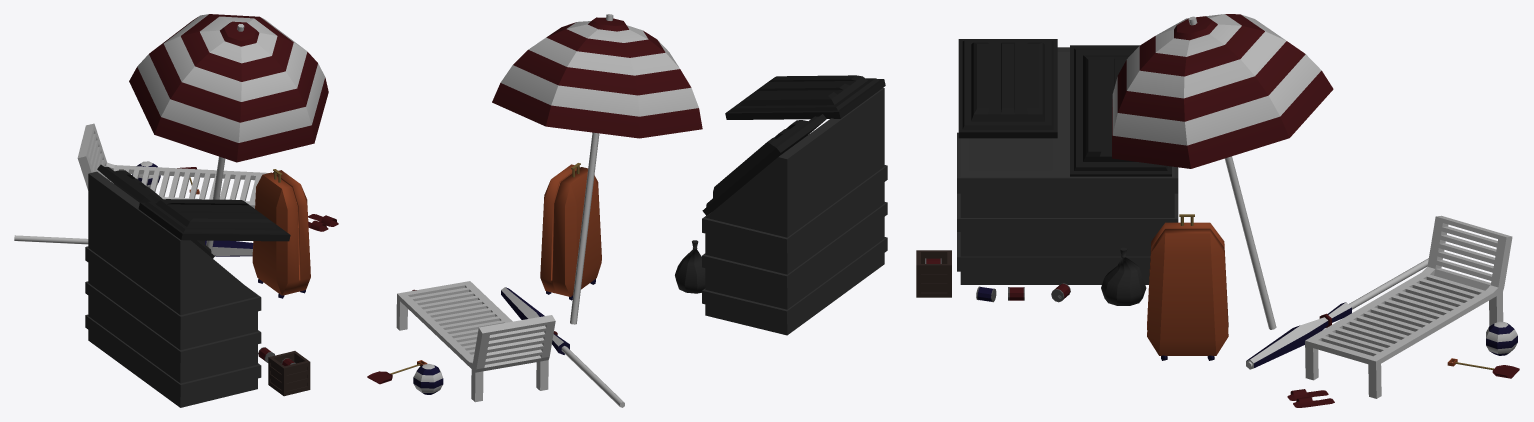
The model's file is Мусор.fbx.
The picture shows the model from 3 angles, left to right: view 1: azimuth 30°, elevation 25°; view 2: azimuth 150°, elevation 25°; view 3: azimuth 270°, elevation 25°; orthographic projection. The views are drawn at different scales.
Visible parts, largest first — view 1: Cube.007, Sphere, Cube, Cube.008, Cube.002, Cube.013, Cube.009, Cylinder.007, Cylinder.006, Cylinder.010; view 2: Cube.007, Sphere, Cube.002, Cube, Cube.008, Cube.009, Cylinder.010, Cylinder.020, Sphere.001, Cylinder.007, Cylinder.006; view 3: Cube.007, Sphere, Cube.002, Cube.008, Cube, Cube.009, Cylinder.020, Cube.013, Cylinder.010, Cylinder.007, Sphere.001, Cylinder.006.
Part boxes in pixels (left/top/right/bottom): Cube.007: left=85, top=171, right=261, bottom=407; Sphere: left=129, top=14, right=328, bottom=162; Cube: left=252, top=170, right=310, bottom=295; Cube.008: left=138, top=199, right=290, bottom=241; Cube.002: left=77, top=123, right=268, bottom=208; Cube.013: left=268, top=351, right=310, bottom=396; Cube.009: left=97, top=164, right=214, bottom=258; Cylinder.007: left=205, top=240, right=253, bottom=256; Cylinder.006: left=14, top=235, right=88, bottom=244; Cylinder.010: left=206, top=24, right=244, bottom=252; Cube.007: left=702, top=88, right=887, bottom=335; Sphere: left=492, top=17, right=702, bottom=138; Cube.002: left=396, top=281, right=555, bottom=402; Cube: left=540, top=164, right=601, bottom=296; Cube.008: left=725, top=75, right=885, bottom=119; Cube.009: left=702, top=114, right=826, bottom=215; Cylinder.010: left=570, top=14, right=613, bottom=324; Cylinder.020: left=675, top=240, right=705, bottom=293; Sphere.001: left=413, top=364, right=443, bottom=394; Cylinder.007: left=501, top=287, right=544, bottom=319; Cylinder.006: left=561, top=346, right=624, bottom=407; Cube.007: left=957, top=47, right=1178, bottom=284; Sphere: left=1112, top=14, right=1333, bottom=168; Cube.002: left=1305, top=215, right=1512, bottom=398; Cube.008: left=958, top=39, right=1057, bottom=138; Cube: left=1147, top=222, right=1228, bottom=355; Cube.009: left=1070, top=45, right=1171, bottom=176; Cylinder.020: left=1101, top=247, right=1146, bottom=305; Cube.013: left=916, top=250, right=951, bottom=297; Cylinder.010: left=1188, top=16, right=1276, bottom=329; Cylinder.007: left=1246, top=317, right=1328, bottom=369; Sphere.001: left=1486, top=321, right=1517, bottom=355; Cylinder.006: left=1246, top=258, right=1428, bottom=368.
Size of the model in its own units: 221 by 188 by 326.
